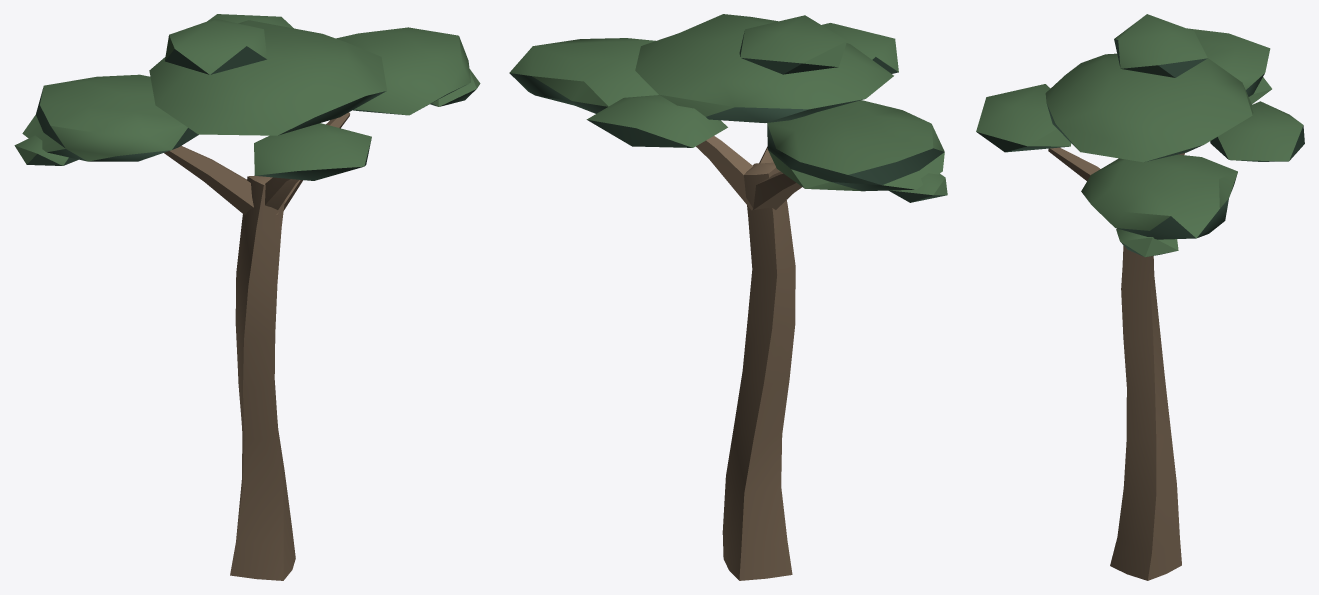
Rendered from tree-3.glb.
3 renders of one model, left to right at view 1: azimuth 30°, elevation 25°; view 2: azimuth 150°, elevation 25°; view 3: azimuth 270°, elevation 25°, orthographic. The views are drawn at different scales.
Visible parts, largest first — view 1: tree-3; view 2: tree-3; view 3: tree-3.
Boxes of the visible parts, x1,y1,x2,y2 form: tree-3: (14,14,480,580); tree-3: (509,14,947,580); tree-3: (976,14,1304,580).
Size of the model in its own units: 2.32 by 2.8 by 1.62.
